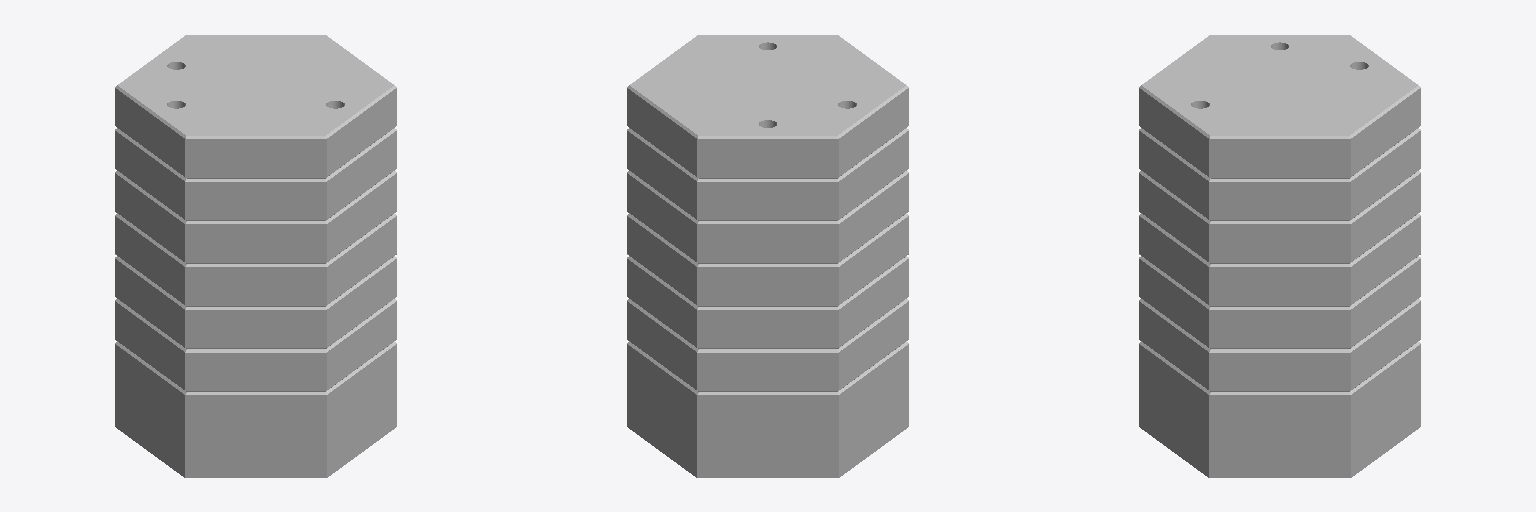
The model's file is lvl7C.obj.
The picture shows the model from 3 angles: view 1: azimuth 30°, elevation 25°; view 2: azimuth 150°, elevation 25°; view 3: azimuth 270°, elevation 25°; orthographic projection.
Visible parts, largest first — view 1: Lvl7C-3_(Mono-NoMags); view 2: Lvl7C-3_(Mono-NoMags); view 3: Lvl7C-3_(Mono-NoMags).
Boxes of the visible parts, <box> form: Lvl7C-3_(Mono-NoMags): <box>115,35,396,477</box>; Lvl7C-3_(Mono-NoMags): <box>627,35,908,477</box>; Lvl7C-3_(Mono-NoMags): <box>1139,35,1420,477</box>.
Size of the model in its own units: 3.13 by 4.83 by 3.62.